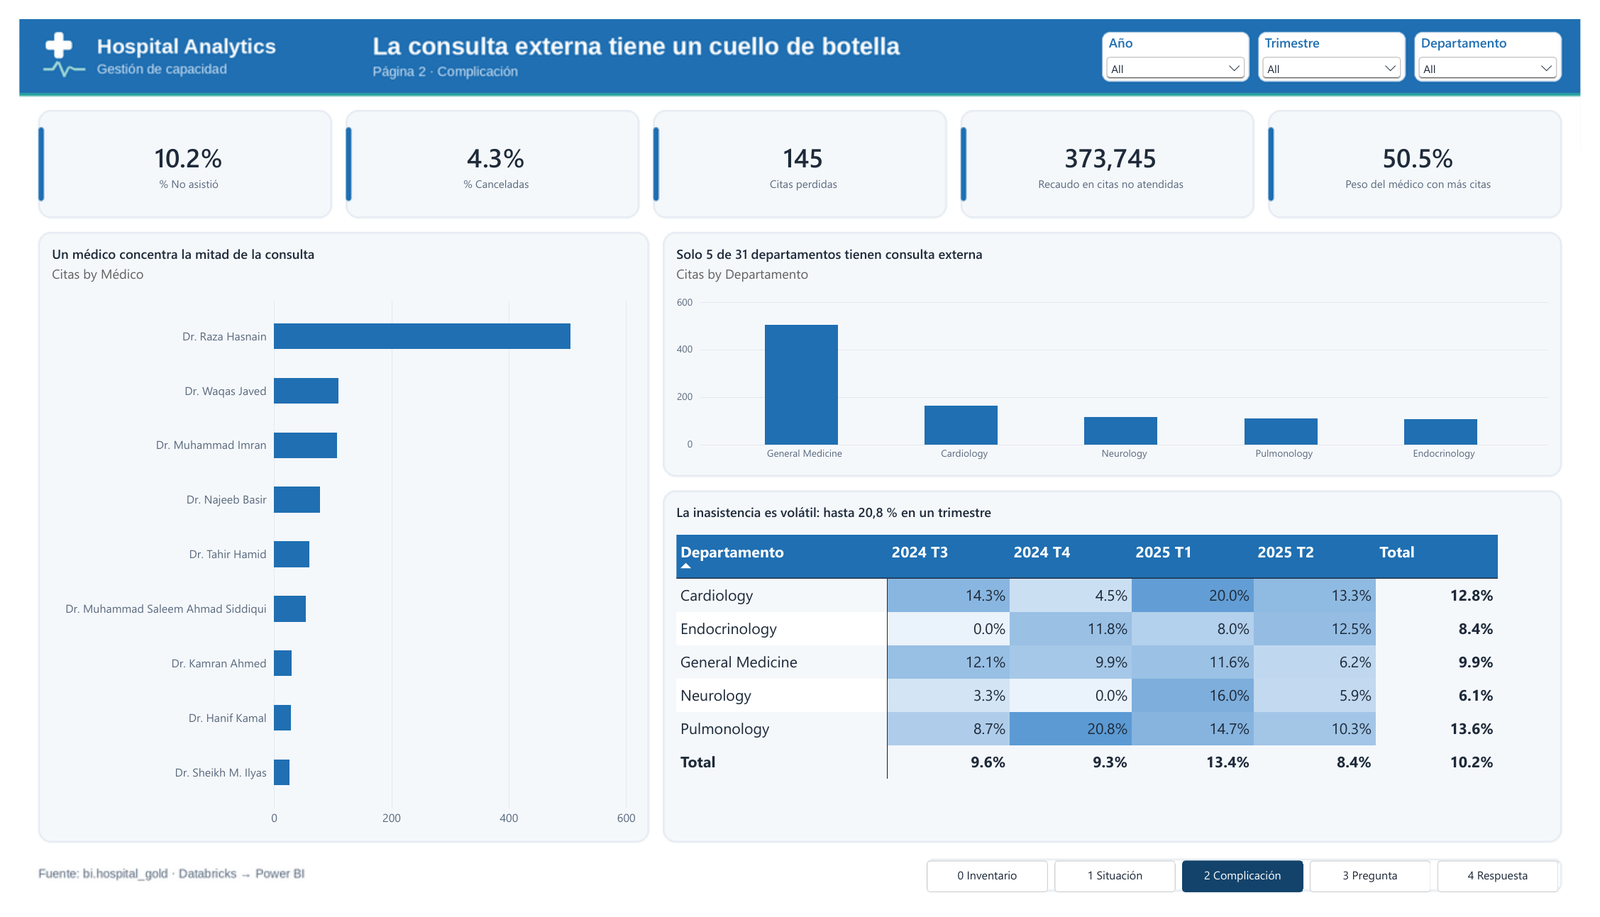

The dashboard page shown, as its layout file describes it:
{"tool":"powerbi","page":{"name":"2 Complicación","canvas":[1920,1080],"ordinal":2},"visuals":[{"type":"slicer","fields":{"Values":["dim_date.year"]},"box":[1332,18,180,60],"z":0},{"type":"slicer","fields":{"Values":["dim_date.quarter_name"]},"box":[1524,18,180,60],"z":1000},{"type":"card","fields":{"Values":["_Medidas.% No Asistió"]},"box":[39,120,339,120],"z":1000},{"type":"slicer","fields":{"Values":["dim_departments.department_name"]},"box":[1716,18,180,60],"z":2000},{"type":"card","fields":{"Values":["_Medidas.% Canceladas"]},"box":[417,120,339,120],"z":2000},{"type":"card","fields":{"Values":["_Medidas.Citas Perdidas"]},"box":[795,120,339,120],"z":3000},{"type":"pageNavigator","box":[1116,1035,780,39],"z":3000},{"type":"card","fields":{"Values":["_Medidas.Recaudo sin Atención"]},"box":[1173,120,339,120],"z":4000},{"type":"card","fields":{"Values":["_Medidas.% Concentración Top Médico"]},"box":[1551,120,339,120],"z":5000},{"type":"clusteredBarChart","title":"Un médico concentra la mitad de la consulta","fields":{"Category":["dim_doctors.doctor_name"],"Y":["_Medidas.Total Citas"]},"box":[24,264,750,750],"z":6000},{"type":"clusteredColumnChart","title":"Solo 5 de 31 departamentos tienen consulta externa","fields":{"Category":["dim_departments.department_name"],"Y":["_Medidas.Total Citas"]},"box":[792,264,1104,300],"z":7000},{"type":"pivotTable","title":"La inasistencia es volátil: hasta 20,8 % en un trimestre","fields":{"Columns":["dim_date.Año-Trimestre"],"Rows":["dim_departments.department_name"],"Values":["_Medidas.% No Asistió"]},"box":[792,582,1104,432],"z":8000}]}

Visuals, with their boxes in screenshot pixels (x1, y1, x2, y2), scaled from the page's 1920x1080 canvas onto the 1600x917 screenshot:
slicer - dim_date.year: 1110:15:1260:66
slicer - dim_date.quarter_name: 1270:15:1420:66
card - _Medidas.% No Asistió: 32:102:315:204
slicer - dim_departments.department_name: 1430:15:1580:66
card - _Medidas.% Canceladas: 348:102:630:204
card - _Medidas.Citas Perdidas: 662:102:945:204
pageNavigator: 930:879:1580:912
card - _Medidas.Recaudo sin Atención: 978:102:1260:204
card - _Medidas.% Concentración Top Médico: 1292:102:1575:204
"Un médico concentra la mitad de la consulta" clusteredBarChart: 20:224:645:861
"Solo 5 de 31 departamentos tienen consulta externa" clusteredColumnChart: 660:224:1580:479
"La inasistencia es volátil: hasta 20,8 % en un trimestre" pivotTable: 660:494:1580:861
